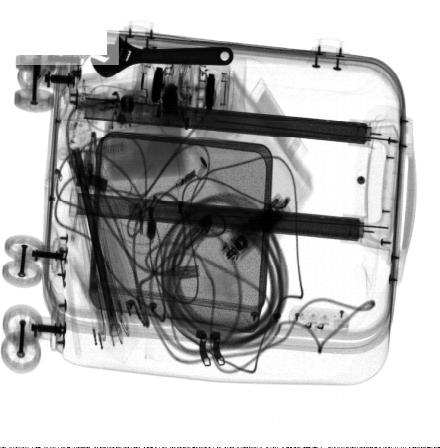Wrench: (90, 34, 234, 78)
